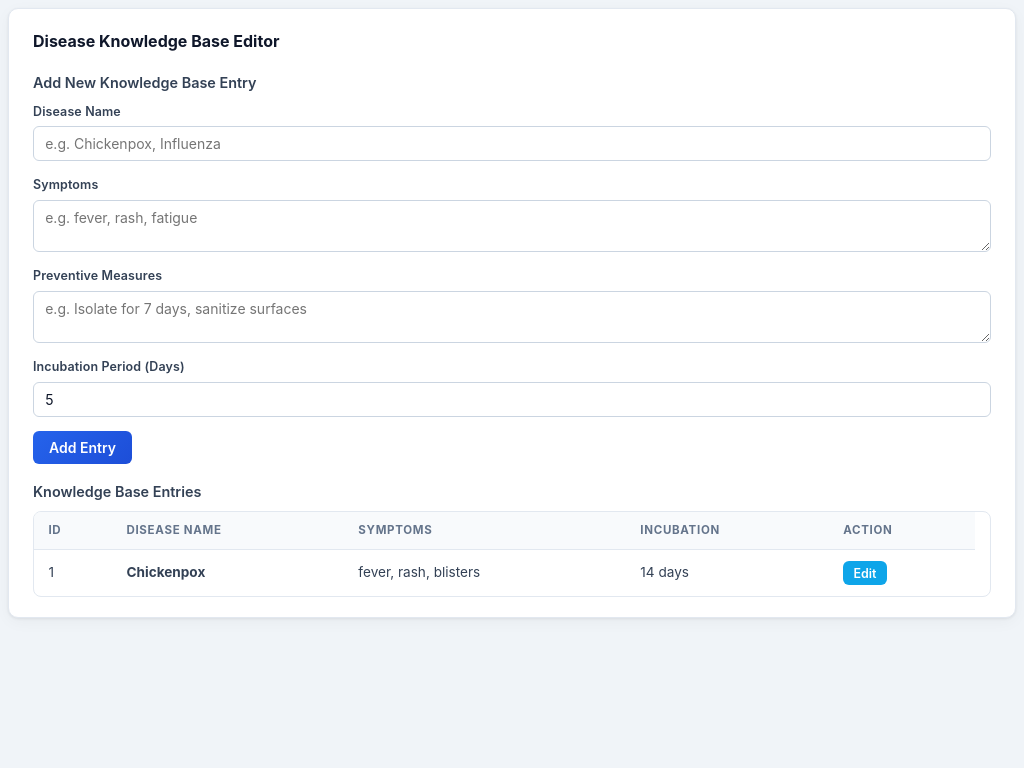
Scenario: Admin Components › DiseaseKBEditor › populates form when Edit button is clicked
Expected: the text "Chickenpox" is shown, top-left (126, 564), bottom-right (205, 580)
Click the button "Edit": x=865, y=573 top-left (843, 561), bottom-right (887, 585)
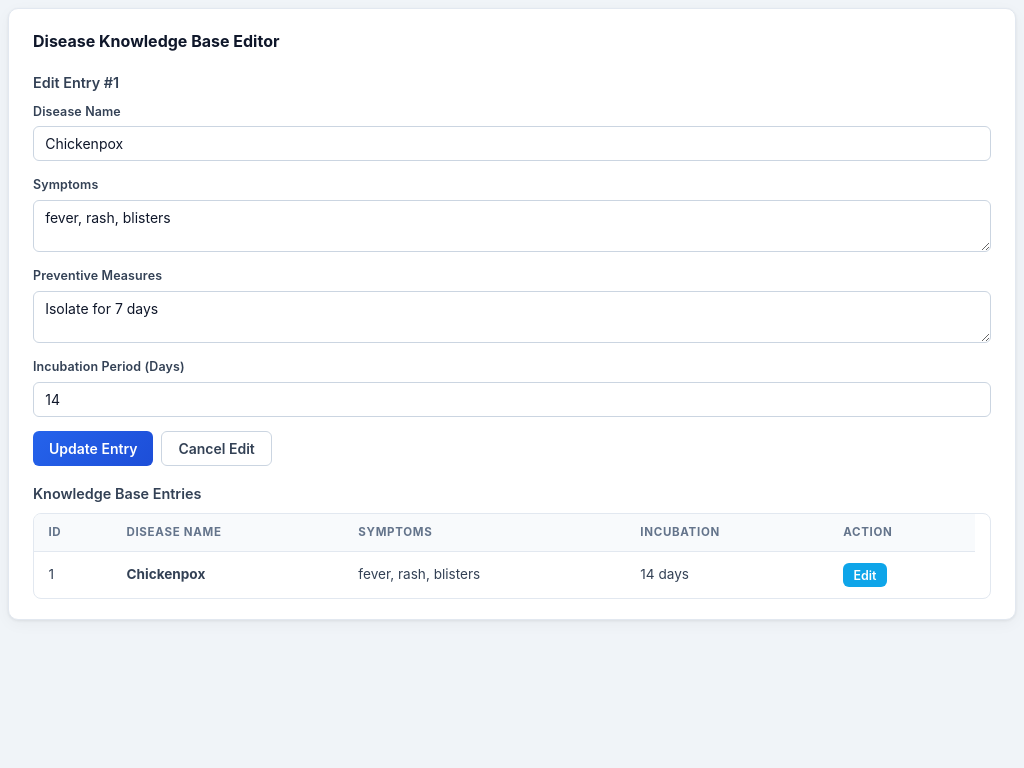
Result: the field labelled "Disease Name" holds "Chickenpox" at top-left (33, 126), bottom-right (991, 161)
Result: the button "Update Entry" is shown at top-left (33, 431), bottom-right (153, 466)
